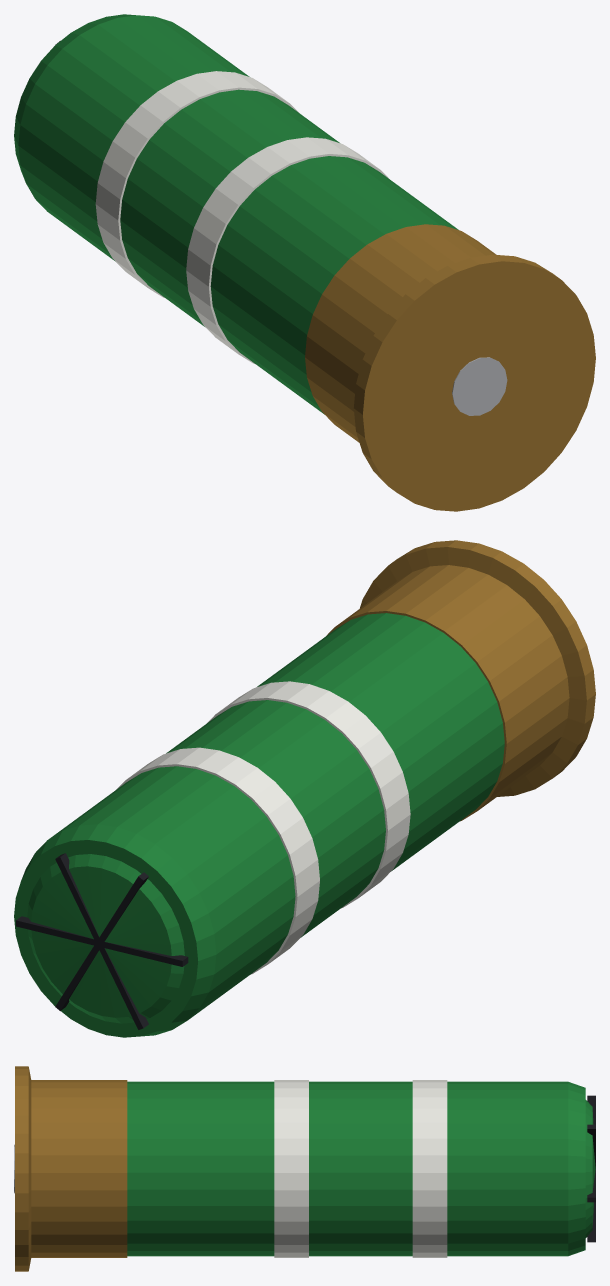
The model's file is cartucho_sinal_verde.glb.
The picture shows the model from 3 angles, top to bottom: view 1: azimuth 30°, elevation 25°; view 2: azimuth 150°, elevation 25°; view 3: azimuth 270°, elevation 25°; orthographic projection. The views are drawn at different scales.
Parts seen in each view (by area): view 1: cartucho_sinal_verde_casco_verde, cartucho_sinal_verde_latao, cartucho_sinal_verde_tinta_branca, cartucho_sinal_verde_aco_inox; view 2: cartucho_sinal_verde_casco_verde, cartucho_sinal_verde_latao, cartucho_sinal_verde_tinta_branca, cartucho_sinal_verde_borracha; view 3: cartucho_sinal_verde_casco_verde, cartucho_sinal_verde_latao, cartucho_sinal_verde_tinta_branca, cartucho_sinal_verde_borracha.
Boxes of the visible parts, left/top/right/bottom form: cartucho_sinal_verde_casco_verde: left=14, top=14, right=458, bottom=414; cartucho_sinal_verde_latao: left=305, top=224, right=595, bottom=511; cartucho_sinal_verde_tinta_branca: left=95, top=71, right=388, bottom=364; cartucho_sinal_verde_aco_inox: left=452, top=357, right=507, bottom=415; cartucho_sinal_verde_casco_verde: left=14, top=613, right=504, bottom=1037; cartucho_sinal_verde_latao: left=326, top=540, right=595, bottom=821; cartucho_sinal_verde_tinta_branca: left=116, top=681, right=410, bottom=974; cartucho_sinal_verde_borracha: left=16, top=853, right=188, bottom=1029; cartucho_sinal_verde_casco_verde: left=127, top=1081, right=595, bottom=1256; cartucho_sinal_verde_latao: left=15, top=1066, right=127, bottom=1271; cartucho_sinal_verde_tinta_branca: left=274, top=1080, right=447, bottom=1257; cartucho_sinal_verde_borracha: left=587, top=1095, right=595, bottom=1242.
Size of the model in its own units: 0.0238 by 0.0238 by 0.0673.
